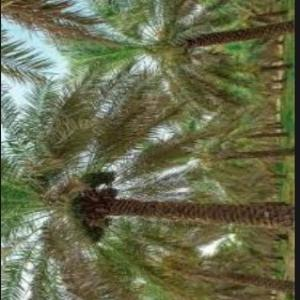palm tree: (0, 0, 295, 299)
